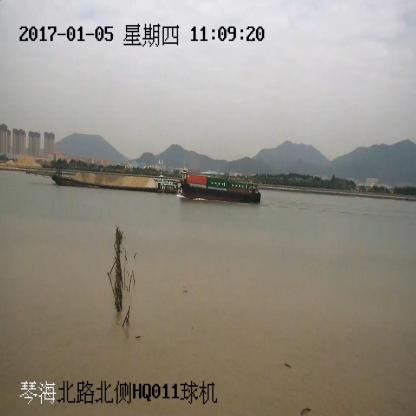Container Ship: (179, 167, 261, 203)
